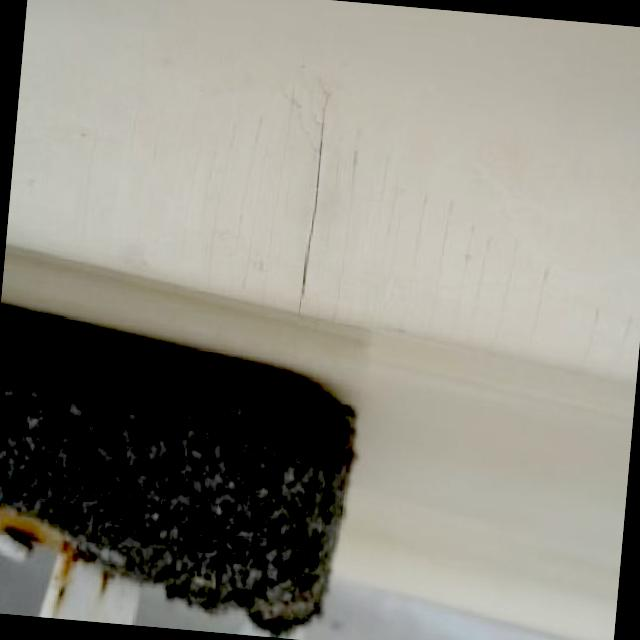crack: (296, 98, 328, 315)
